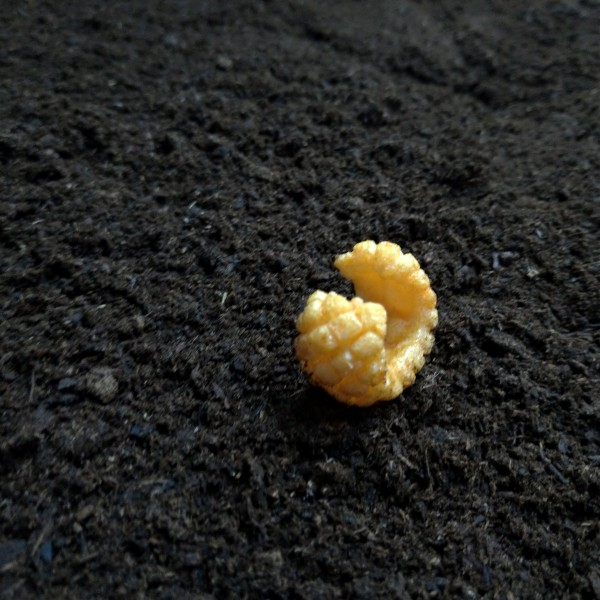eggs: (285, 239, 443, 403)
